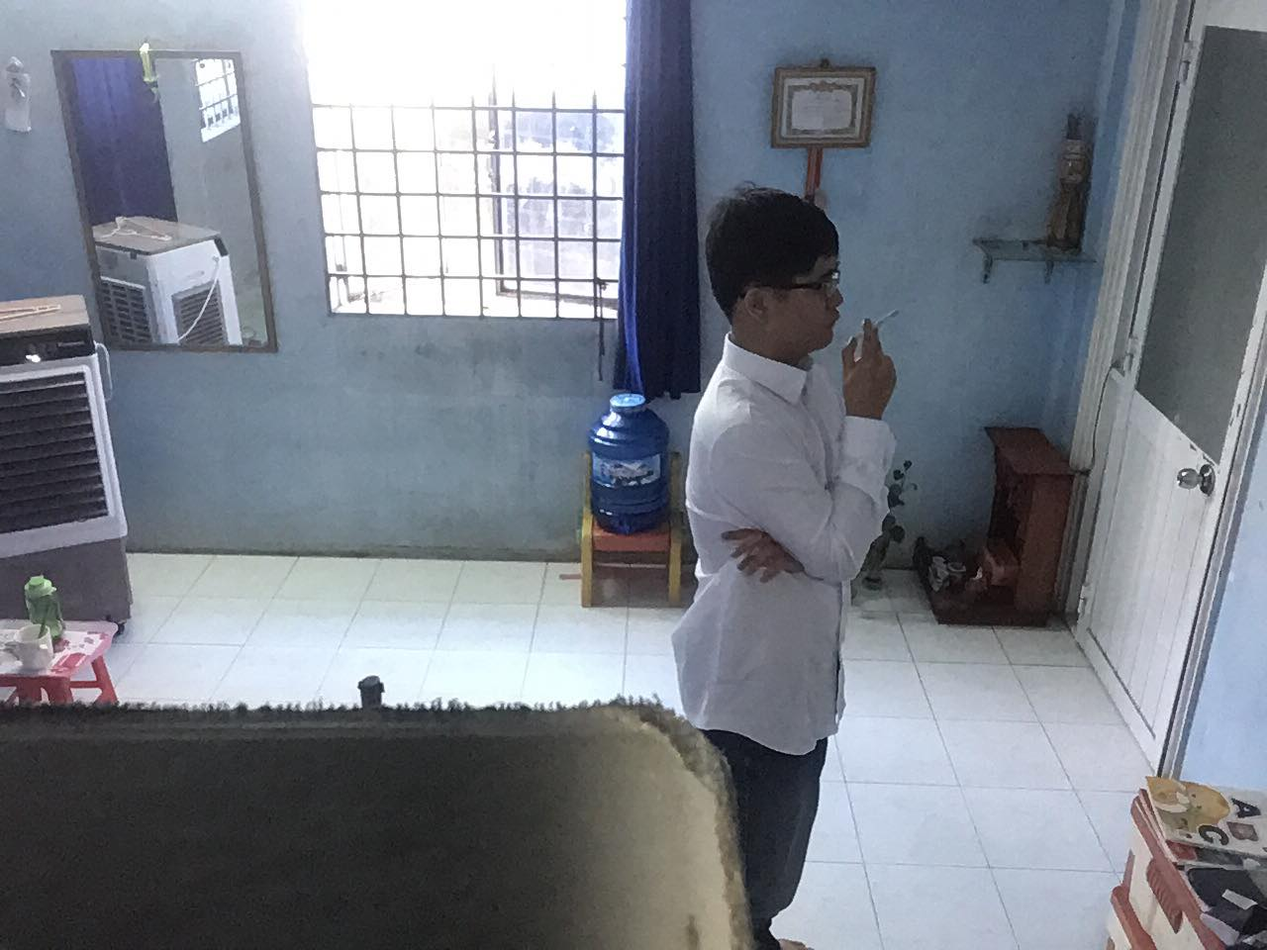cigarette: (862, 309, 909, 333)
person: (659, 155, 920, 950)
